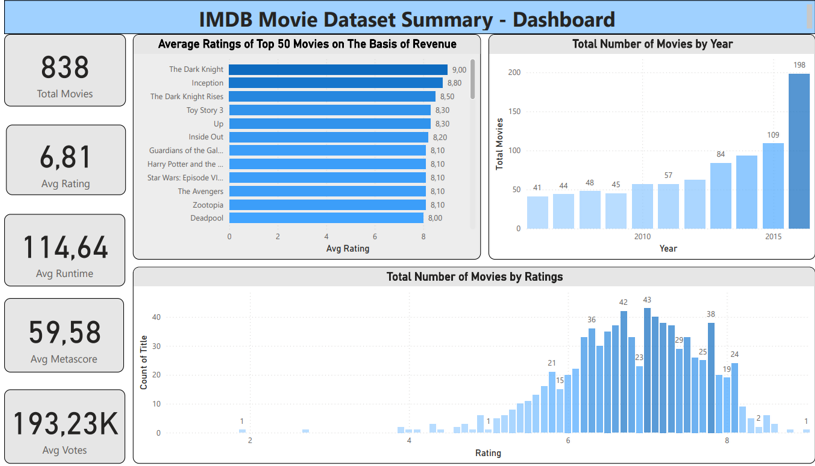

What the dashboard file says about the page in this screenshot:
{"tool":"powerbi","page":{"name":"Dashboard page - 1","canvas":[1280,720],"ordinal":0},"visuals":[{"type":"card","fields":{"Values":["Measure.Total Movies"]},"box":[0,52.1,192.1,111.1],"z":0},{"type":"card","fields":{"Values":["Measure.Avg Runtime"]},"box":[0,328,190.7,111.1],"z":1000},{"type":"card","fields":{"Values":["Measure.Avg Metascore"]},"box":[0,456.9,189.4,113.9],"z":2000},{"type":"card","fields":{"Values":["Measure.Avg Votes"]},"box":[0,596.9,190.7,113.9],"z":3000},{"type":"card","fields":{"Values":["Measure.Avg Rating"]},"box":[2.7,190.7,189.4,108.4],"z":4000},{"type":"textbox","box":[0,0,1280.3,52.1],"z":5000},{"type":"clusteredBarChart","title":" Average Ratings of Top 50 Movies on The Basis of Revenue","fields":{"Category":["imdb_movie_dataset.Title"],"Y":["Measure.Avg Rating"]},"box":[203.1,52.1,548.9,345.8],"z":6000},{"type":"columnChart","title":"Total Number of Movies by Year","fields":{"Category":["imdb_movie_dataset.Year"],"Y":["Measure.Total Movies"]},"box":[764.3,52.1,516,345.8],"z":7000},{"type":"clusteredColumnChart","title":"Total Number of Movies by Ratings","fields":{"Category":["imdb_movie_dataset.Rating"],"Y":["CountNonNull(imdb_movie_dataset.Title)"]},"box":[203.1,408.9,1077.2,301.9],"z":8000}]}

Visuals, with their boxes in screenshot pixels (x1, y1, x2, y2), scaled from the page's 1280x720 canvas onto the 815x466 screenshot:
card - Measure.Total Movies: detection(0, 34, 122, 106)
card - Measure.Avg Runtime: detection(0, 212, 121, 284)
card - Measure.Avg Metascore: detection(0, 296, 121, 369)
card - Measure.Avg Votes: detection(0, 386, 121, 460)
card - Measure.Avg Rating: detection(2, 123, 122, 194)
textbox: detection(0, 0, 814, 34)
" Average Ratings of Top 50 Movies on The Basis of Revenue" clusteredBarChart: detection(129, 34, 479, 258)
"Total Number of Movies by Year" columnChart: detection(487, 34, 814, 258)
"Total Number of Movies by Ratings" clusteredColumnChart: detection(129, 265, 814, 460)
